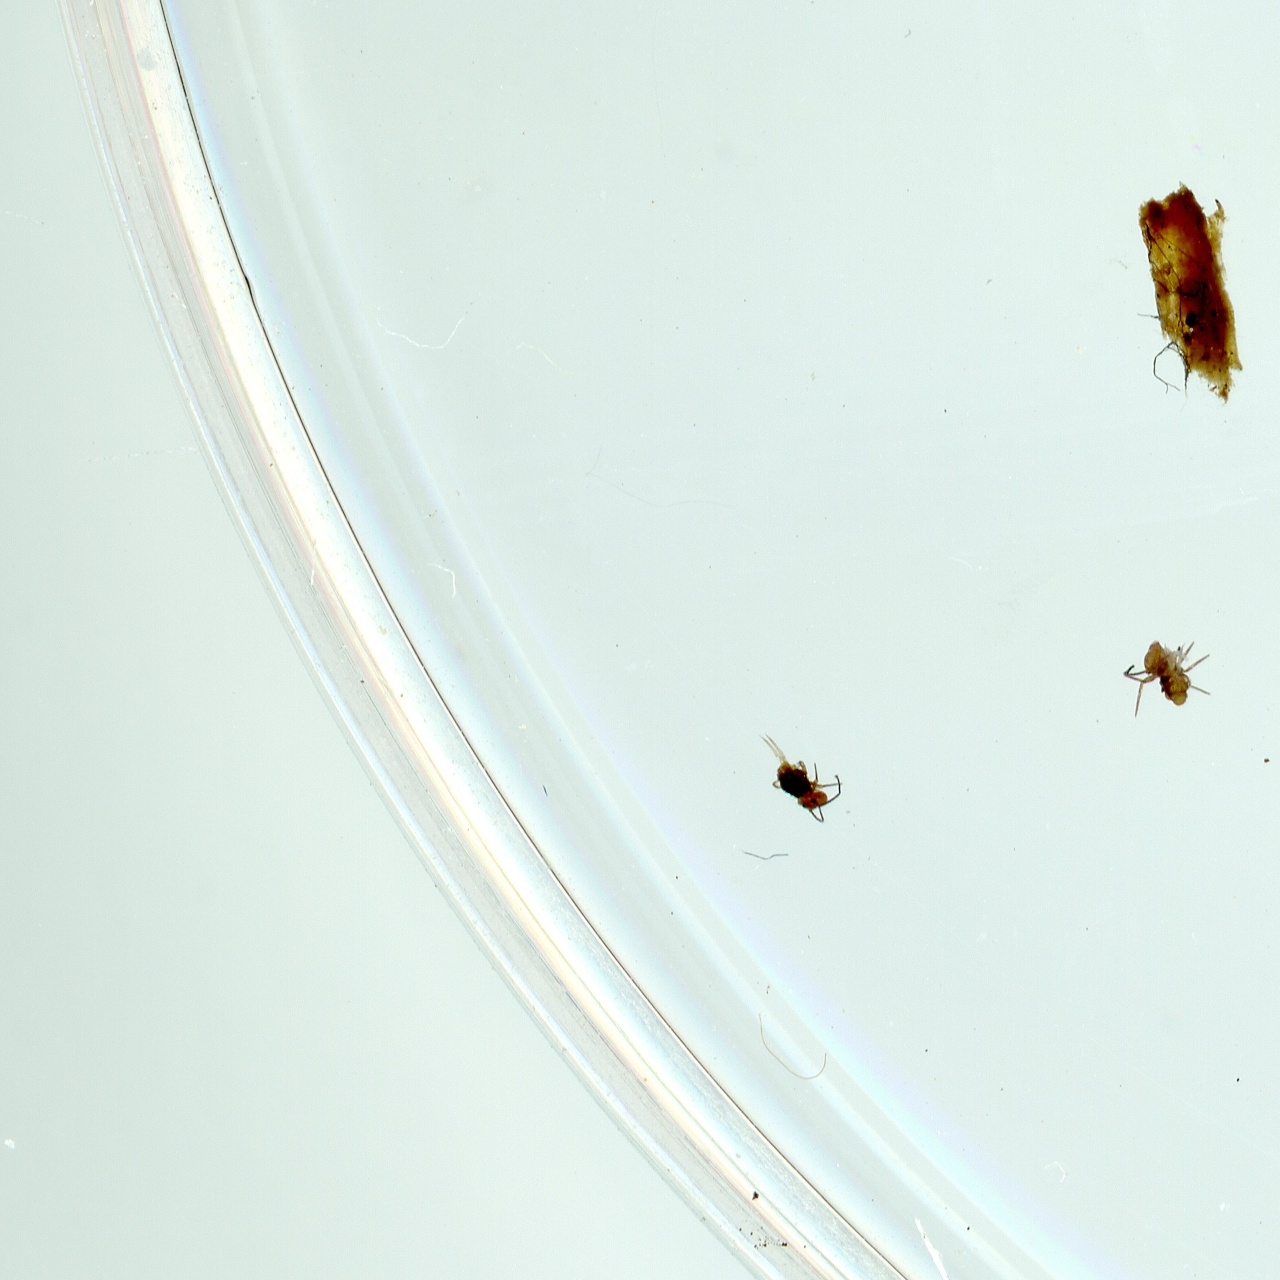arthropod: (742, 727, 856, 837), (1116, 633, 1222, 727)
